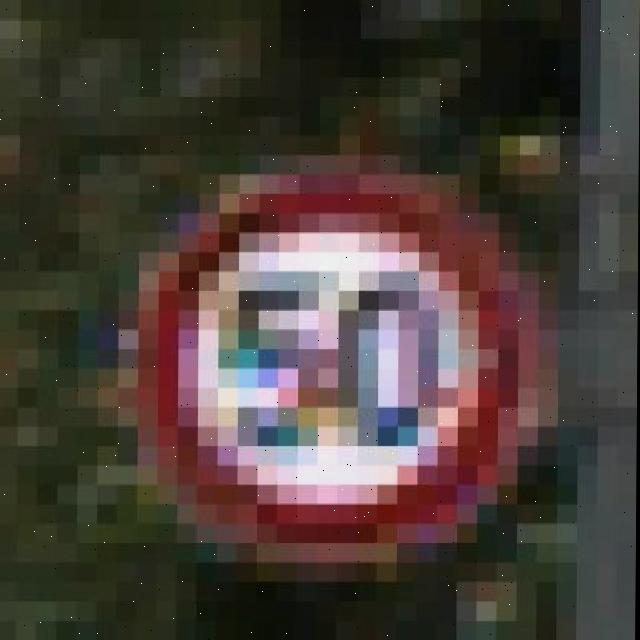Speed limit 50: (130, 166, 537, 557)
